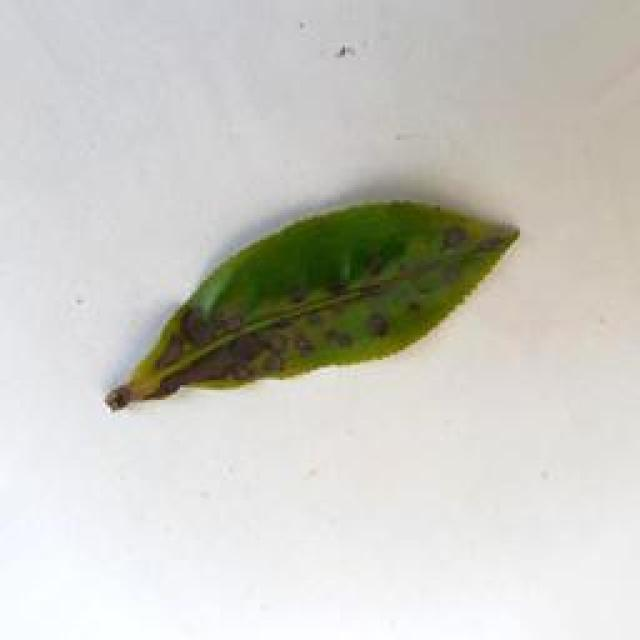Helopeltis: (99, 195, 529, 410)
